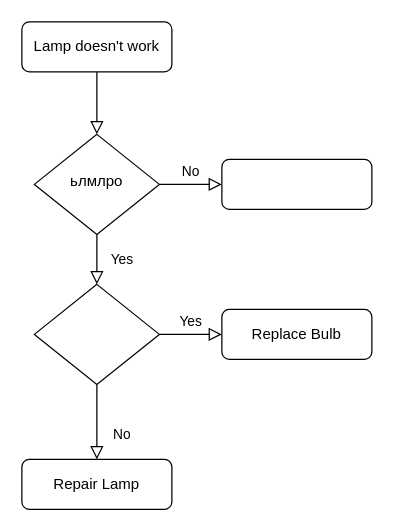
Image size: 394x531. Some labels were removed from this diagram. The box of each missing label's shape, as (x1, y1, x2, y2) in pixels:
Bulb burned out?: (33, 283, 159, 384)
Plug in lamp: (221, 158, 372, 209)
